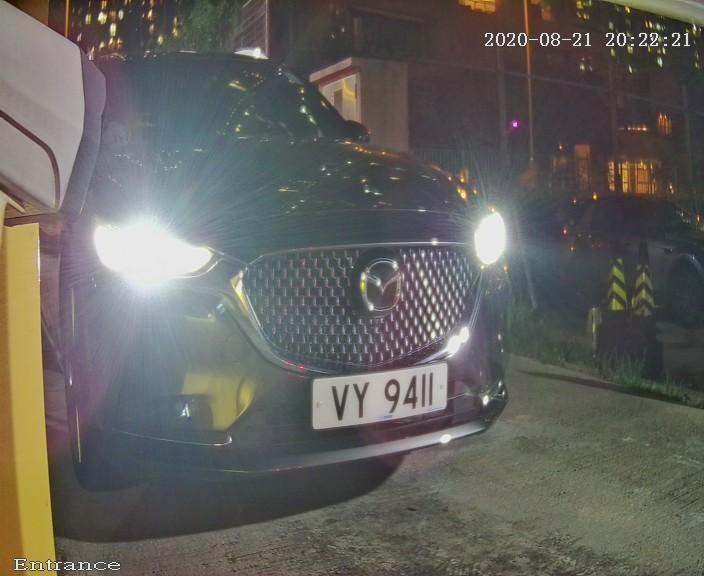Car: (10, 6, 557, 543)
License Plate: (290, 342, 465, 456)
